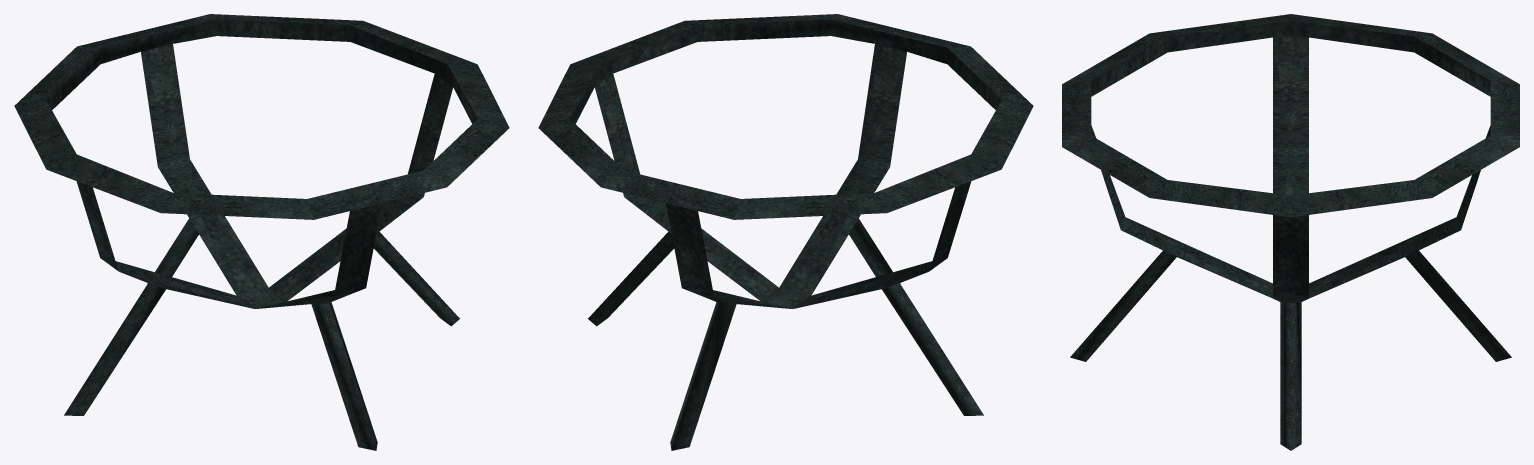
Rendered from edb_con_tato_basket_s02_l1.fbx.
3 views of the same model, side by side, from view 1: azimuth 30°, elevation 25°; view 2: azimuth 150°, elevation 25°; view 3: azimuth 270°, elevation 25° (orthographic). The views are drawn at different scales.
Visible parts, largest first — view 1: mesh_node; view 2: mesh_node; view 3: mesh_node.
Part boxes in pixels (x1,y1,x2,y2): mesh_node: [14, 14, 509, 450]; mesh_node: [538, 14, 1033, 450]; mesh_node: [1062, 14, 1519, 450].
Size of the model in its own units: 1.26 by 0.7185 by 1.2.
Materials: 1 (1 with a texture image).
